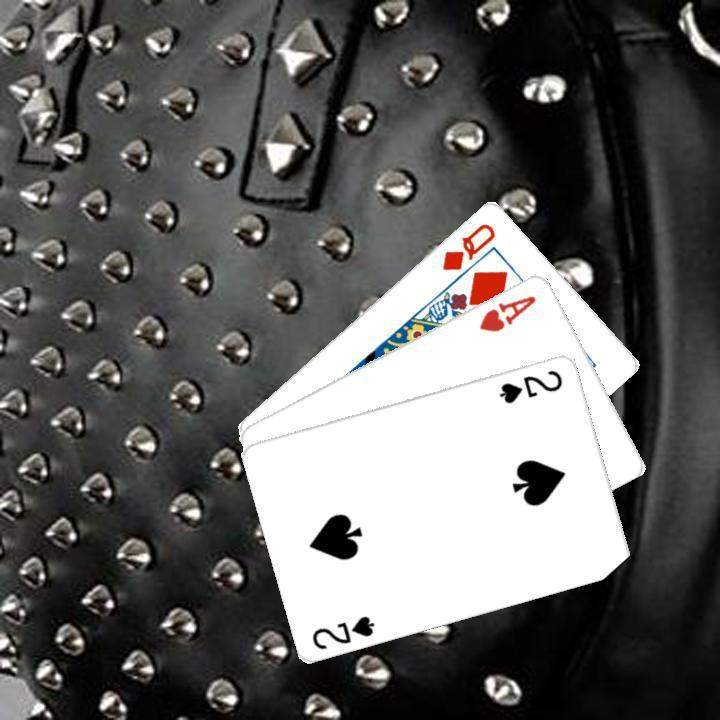2: (495, 365, 565, 405), (308, 611, 377, 651)
A: (474, 290, 539, 334)
Q: (437, 218, 498, 273)
